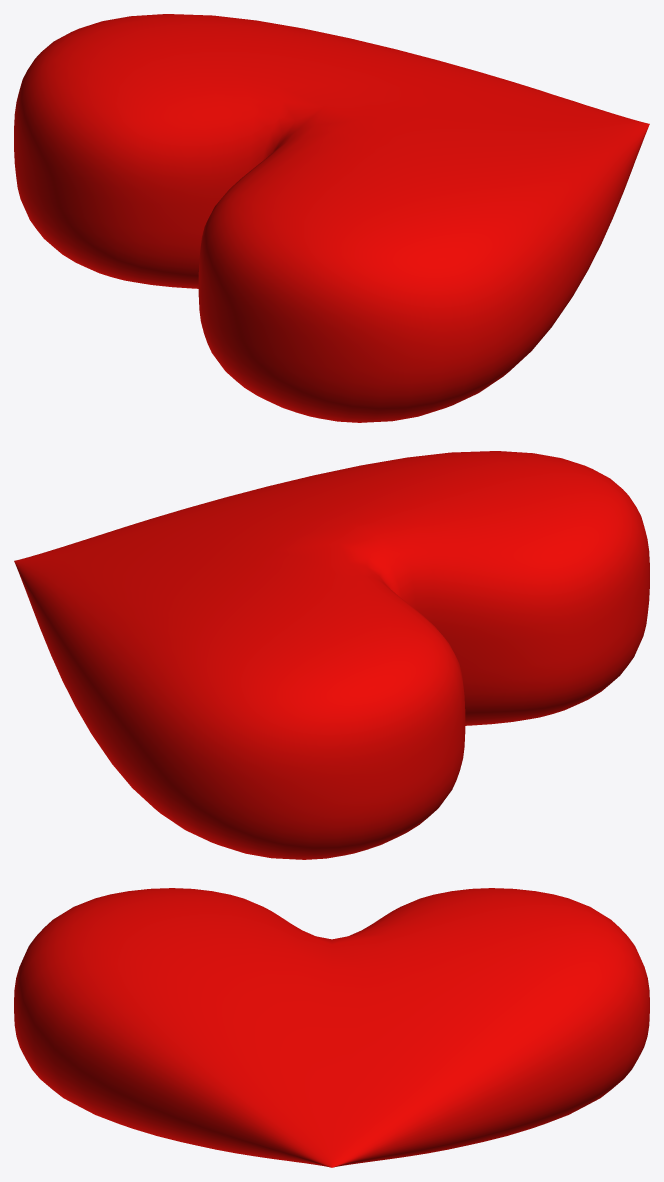
Rendered from Heart.fbx.
The picture shows the model from 3 angles, top to bottom: view 1: azimuth 30°, elevation 25°; view 2: azimuth 150°, elevation 25°; view 3: azimuth 270°, elevation 25°; orthographic projection. The views are drawn at different scales.
Parts seen in each view (by area): view 1: Heart; view 2: Heart; view 3: Heart.
Part boxes in pixels (x1,y1,x2,y2): Heart: (14,14,649,422); Heart: (14,451,649,859); Heart: (14,888,649,1167).
Size of the model in its own units: 69.23 by 26.41 by 84.39.
